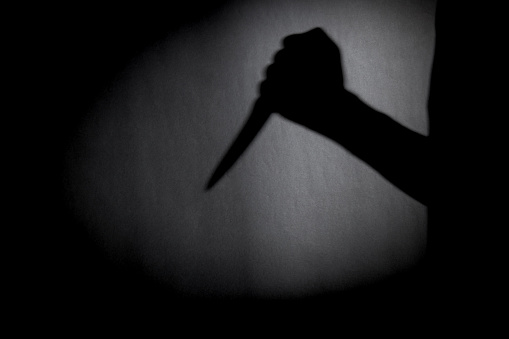knife: (202, 94, 277, 192)
